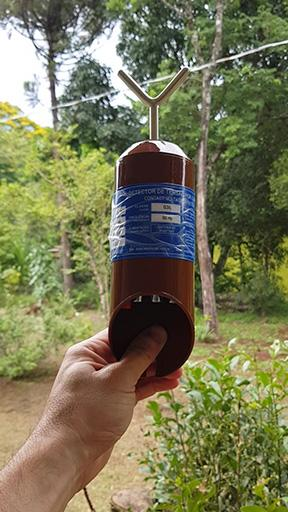Detector_Tensao_Contato: (107, 63, 197, 381)
